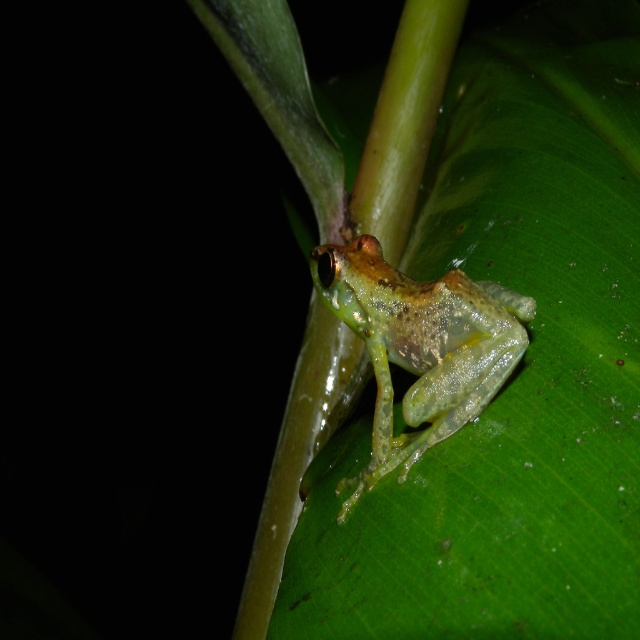Frog: (308, 234, 538, 527)
